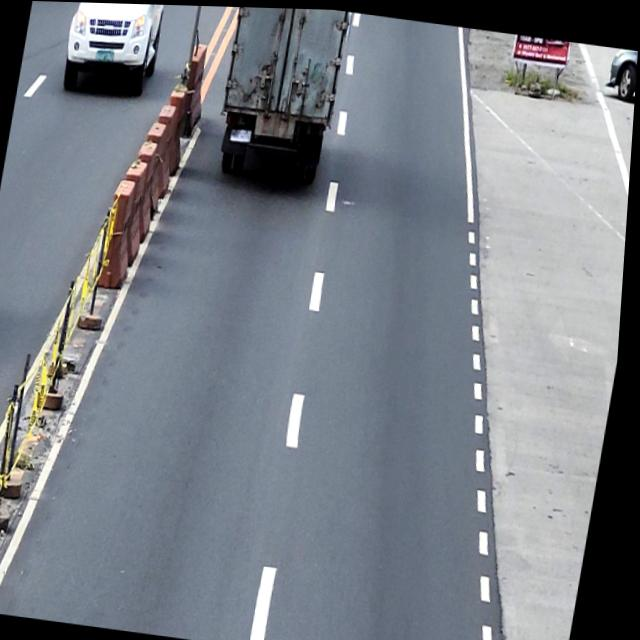Car: (57, 1, 168, 96), (604, 43, 638, 100)
License-Plate: (230, 126, 254, 143), (95, 48, 116, 62)
Truck: (212, 5, 350, 186)
